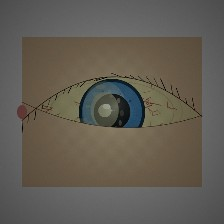corneal_ulcer: (75, 86, 135, 134)
